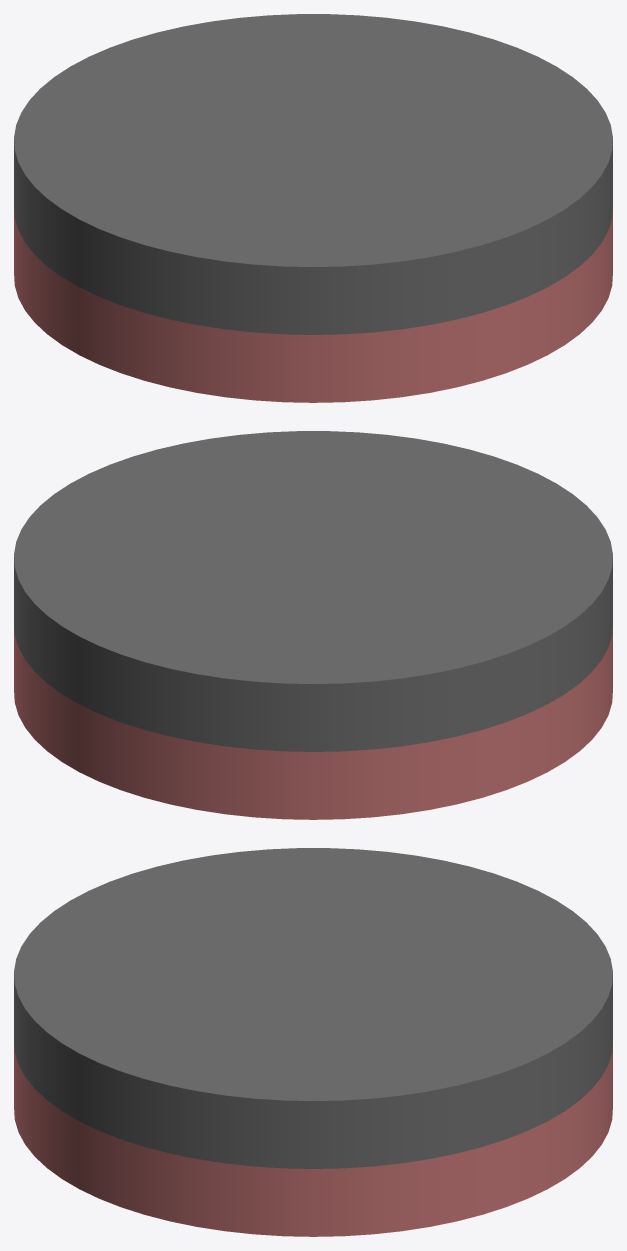
The model's file is step_02.glb.
3 views of the same model, one above another, from view 1: azimuth 30°, elevation 25°; view 2: azimuth 150°, elevation 25°; view 3: azimuth 270°, elevation 25° (orthographic).
Parts seen in each view (by area): view 1: part__rubber foot, removed__rubber foot; view 2: part__rubber foot, removed__rubber foot; view 3: part__rubber foot, removed__rubber foot.
Part boxes in pixels (x1,y1,x2,y2): part__rubber foot: [14, 14, 612, 334]; removed__rubber foot: [14, 208, 612, 402]; part__rubber foot: [14, 431, 612, 751]; removed__rubber foot: [14, 625, 612, 819]; part__rubber foot: [14, 848, 612, 1168]; removed__rubber foot: [14, 1042, 612, 1236].
Size of the model in its own units: 11.99 by 3 by 12.
